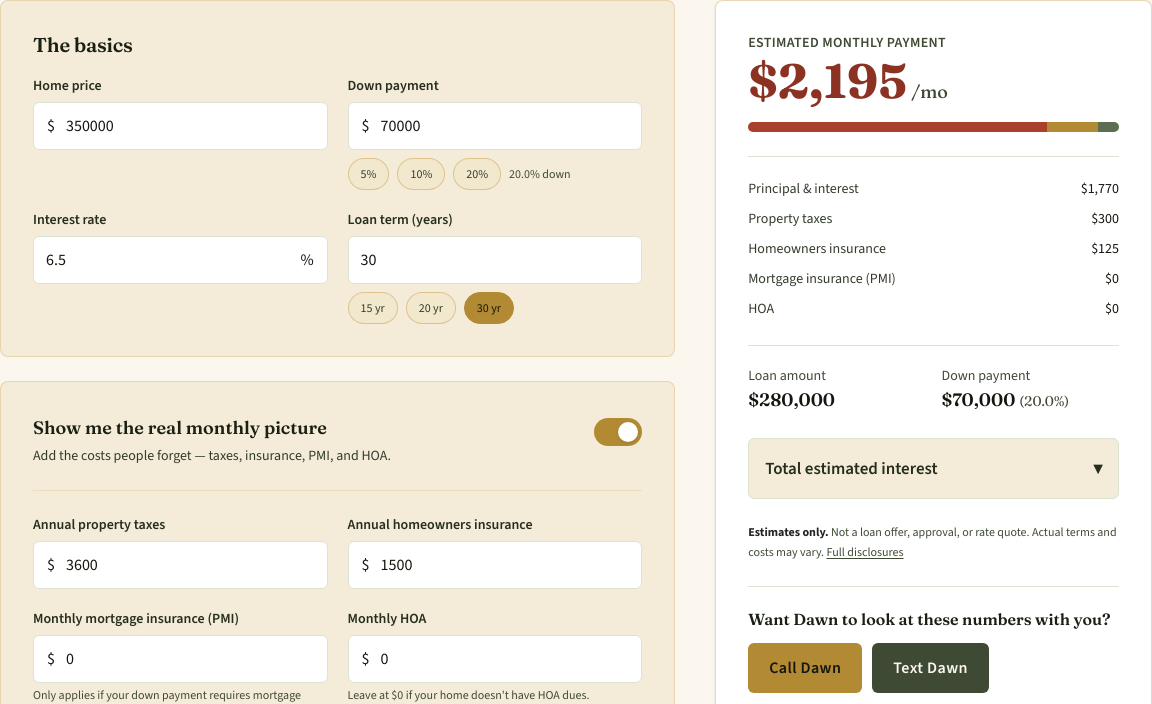
Test: HomePaymentCalculator › a down payment preset chip updates both the dollar amount and the displayed percentage
Click the button "10%" at x=421, y=174, box [398,158,445,190]
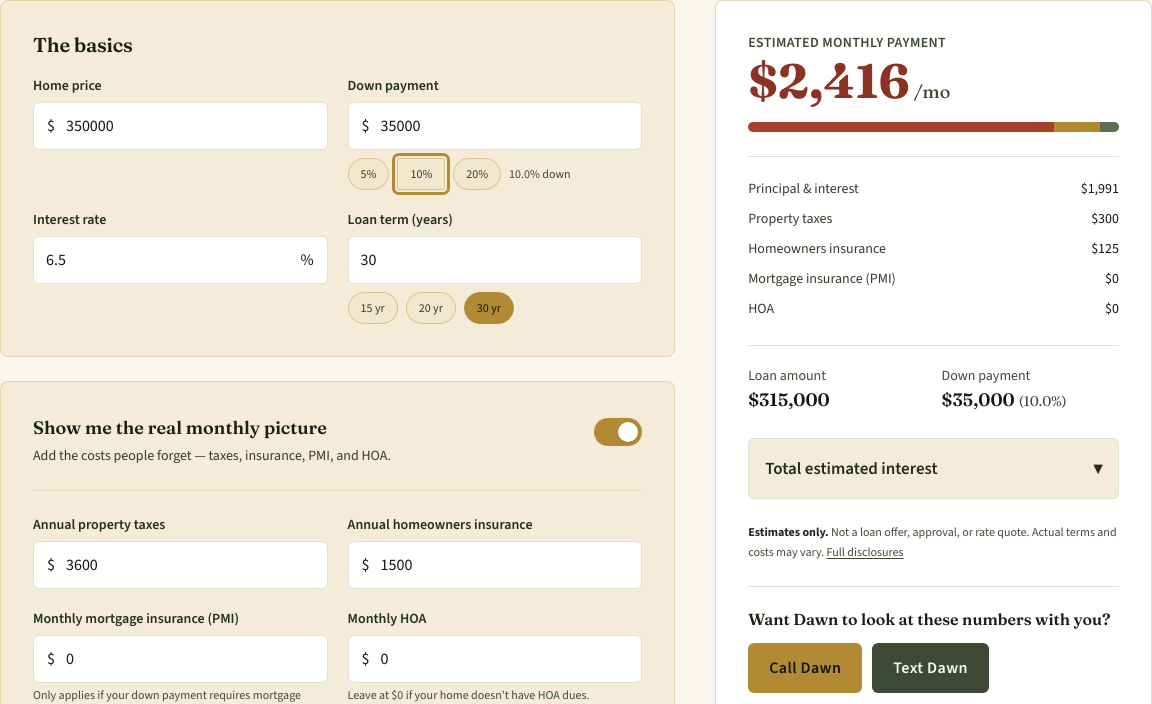
Result: the text "10.0% down" is shown at [509,166,571,182]
